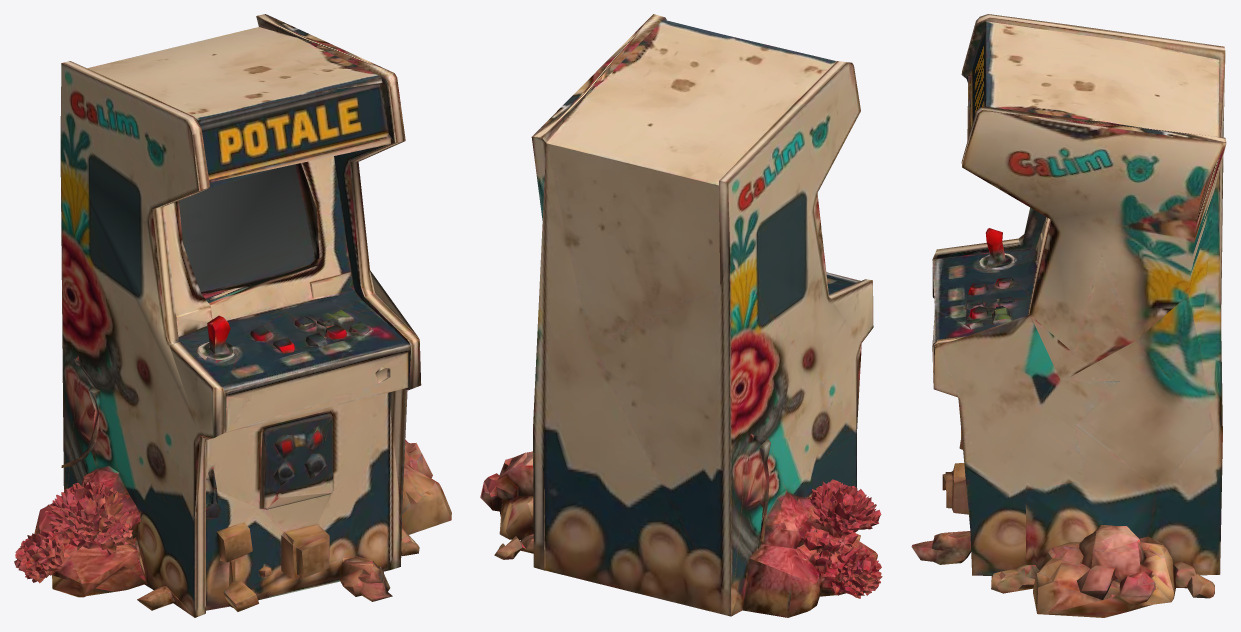
Rendered from arcade-cabinet.glb.
3 renders of one model, left to right at view 1: azimuth 30°, elevation 25°; view 2: azimuth 150°, elevation 25°; view 3: azimuth 270°, elevation 25°, orthographic. The views are drawn at different scales.
Size of the model in its own units: 1.61 by 1.9 by 1.16.
Materials: 1 (1 with a texture image).
